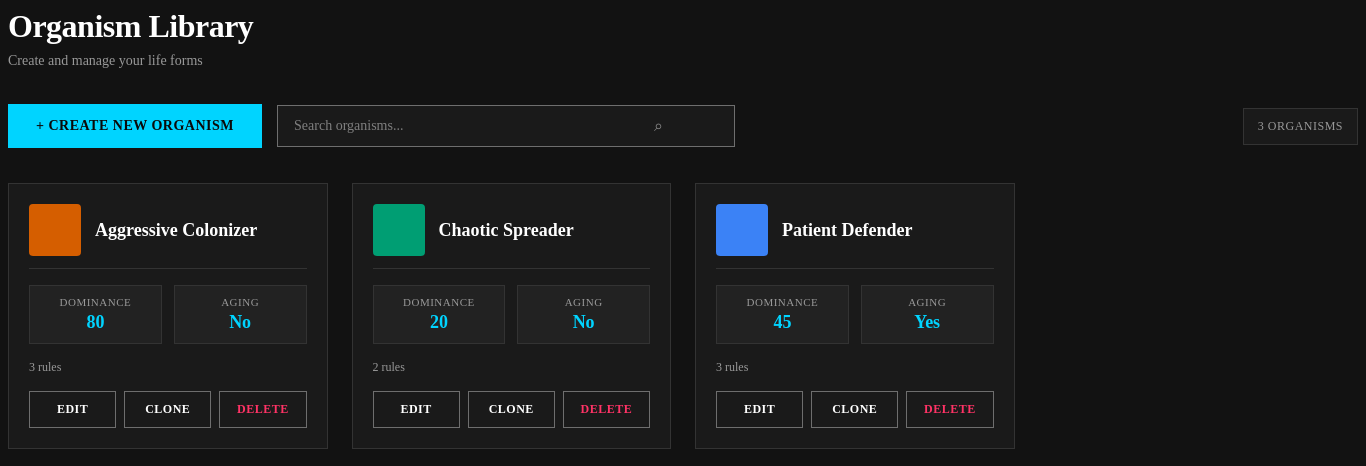
Scenario: OrganismLibrary › shows a message, not an empty control, when the search matches nothing — the input stays and keeps focus
Check: the number of list items is 3, box [8,183,328,449]; [352,183,671,449]; [695,183,1014,449]
Type "zzz" into the field labelled "Search organisms" at (506, 126), box [277,105,735,147]
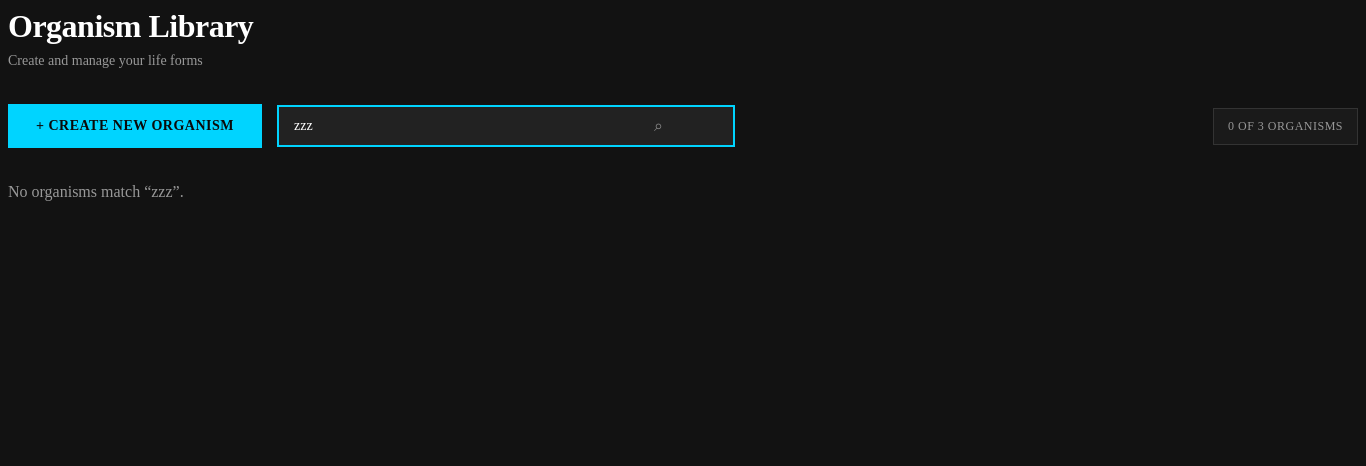
Check: the text "No organisms match “zzz”." is shown, box [8,183,184,200]
Check: no list items are shown
